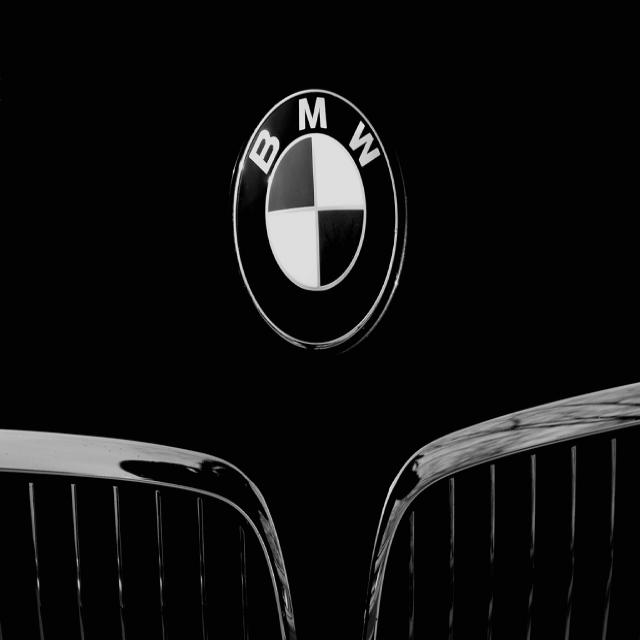bmw: (228, 81, 403, 358)
